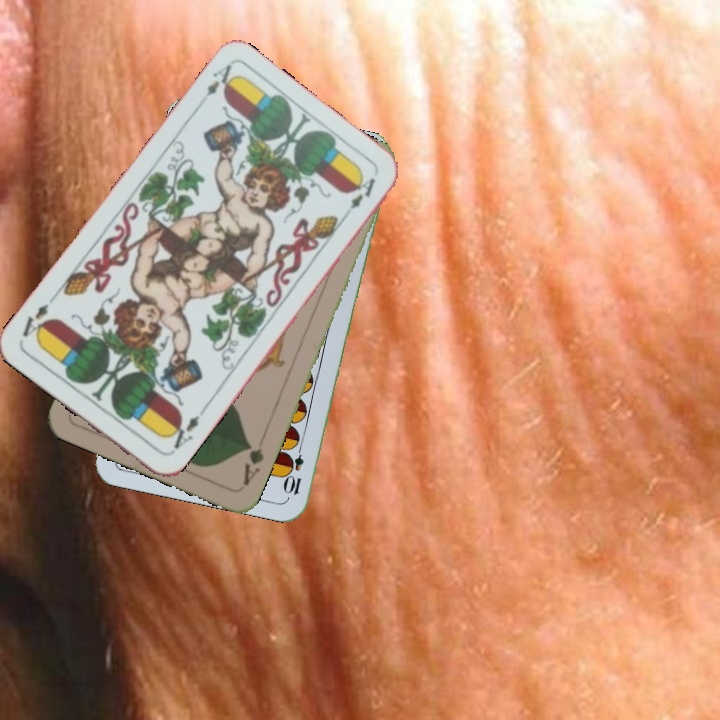E10: (282, 438, 307, 497)
EA: (193, 60, 239, 110), (162, 411, 202, 456)
GA: (239, 433, 267, 489)
